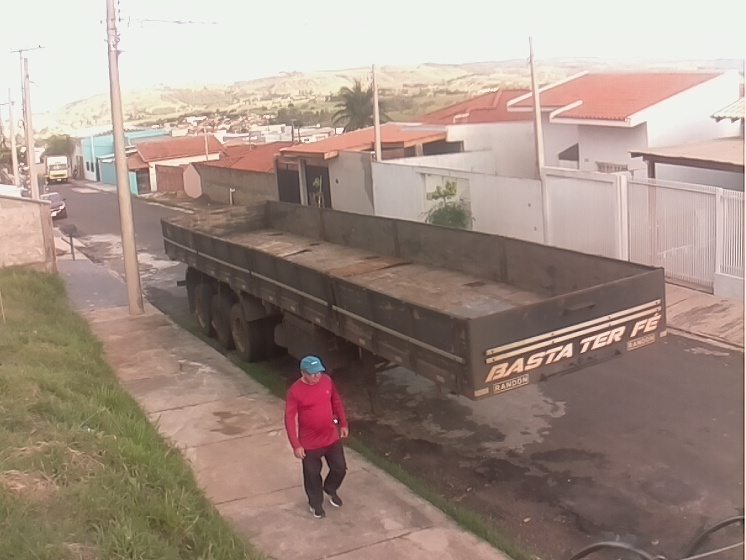person: (283, 352, 348, 521)
